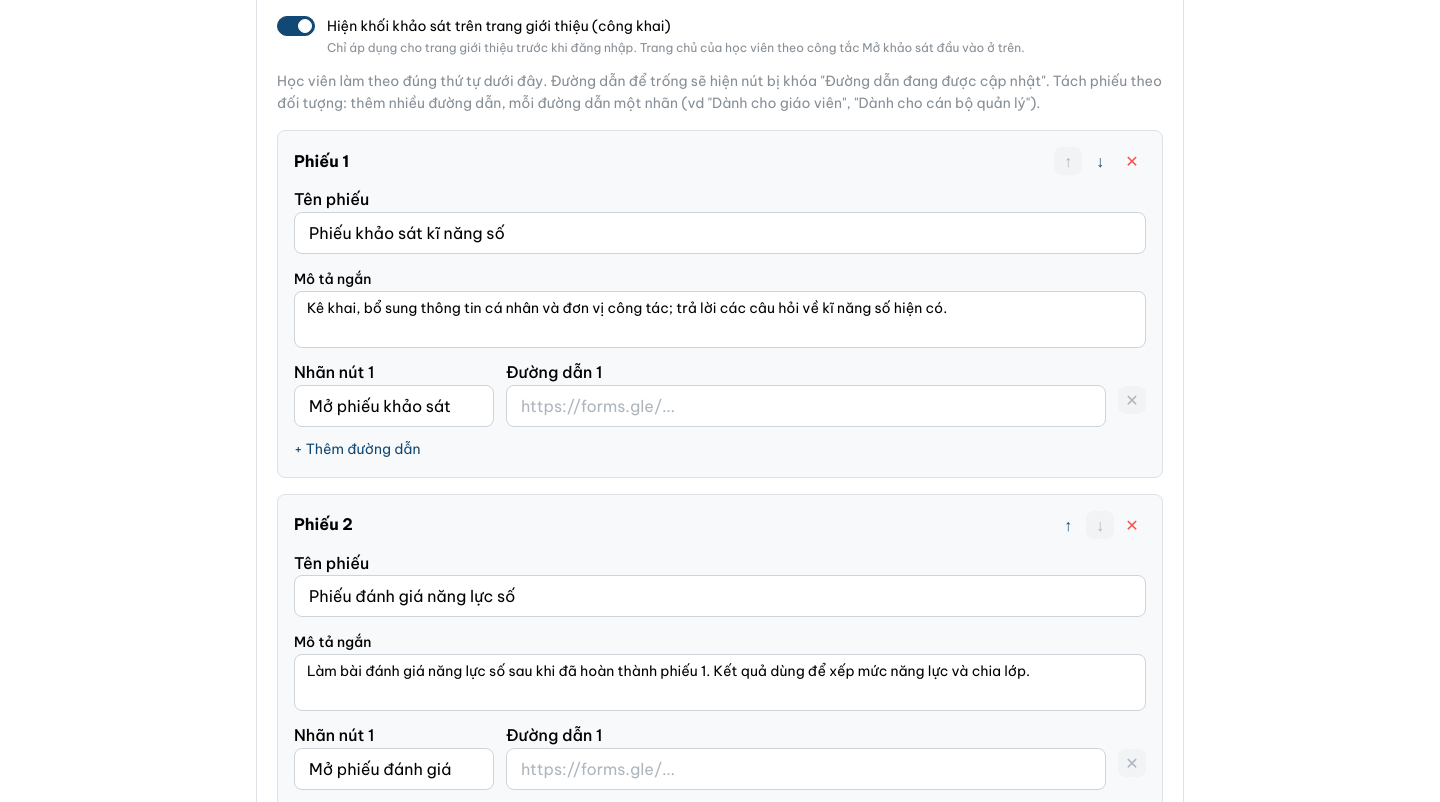
Test case: Admin — Cấu hình khảo sát › nhập đường dẫn rồi lưu -> PUT đúng dữ liệu (trim) + thông báo thành công
(page scrolled)
Type "  https://forms.gle/ks1  " into the 1st field labelled "Đường dẫn 1" at (806, 406), box [506,385,1106,427]
(page scrolled)
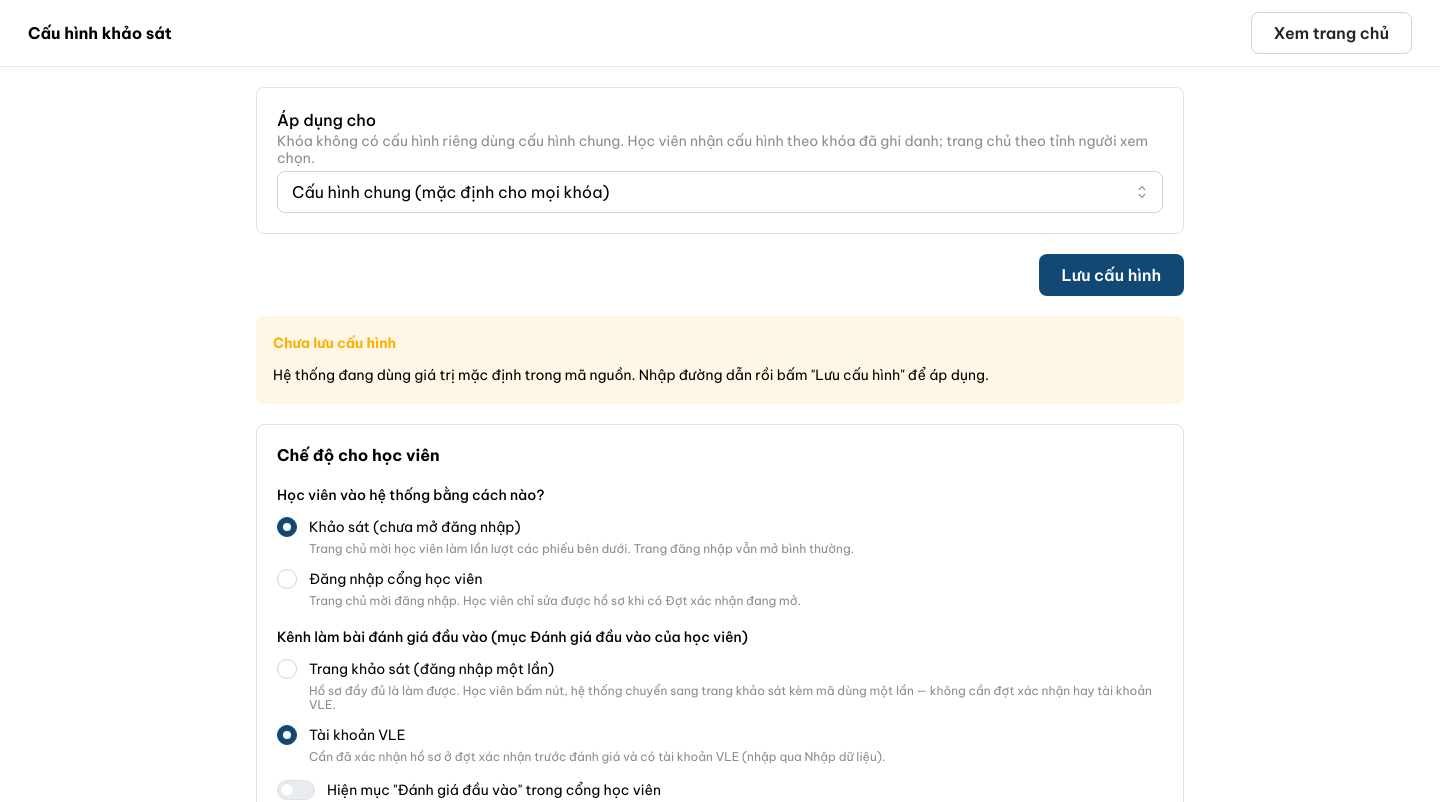
Click the button "Lưu cấu hình" at (1111, 275), box [1039,254,1184,296]
(page scrolled)
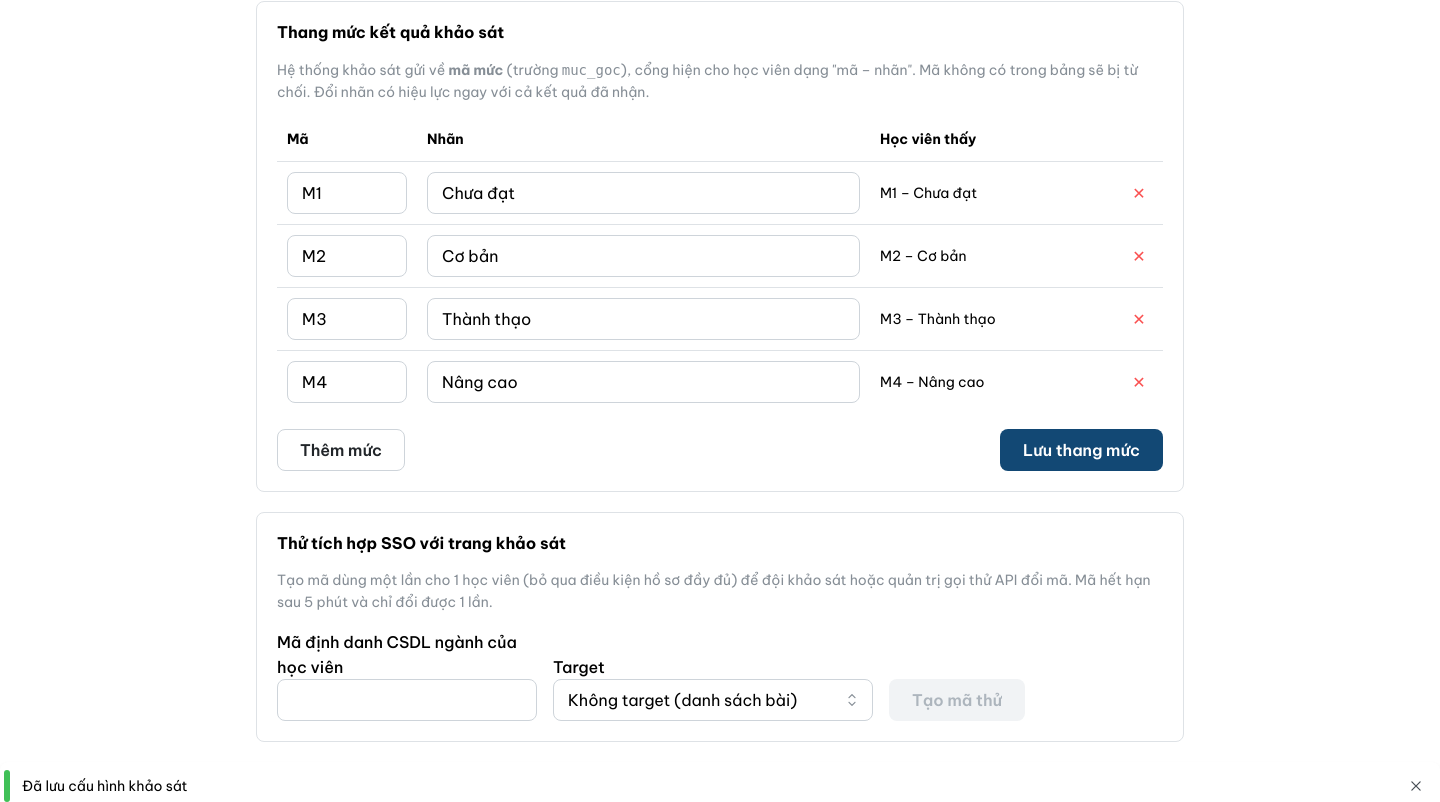
expect the text "Đã lưu cấu hình khảo sát" is shown: met, box [22,777,188,795]
